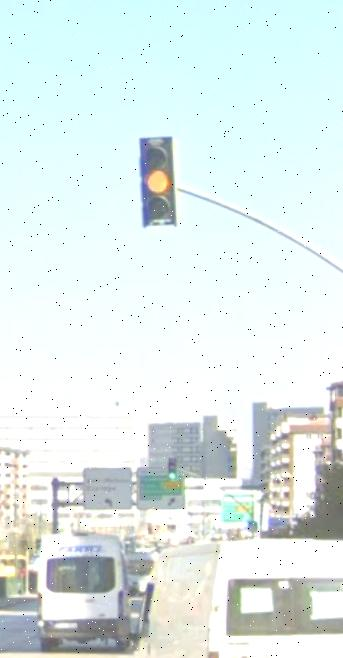yellowlight: (140, 138, 178, 222)
